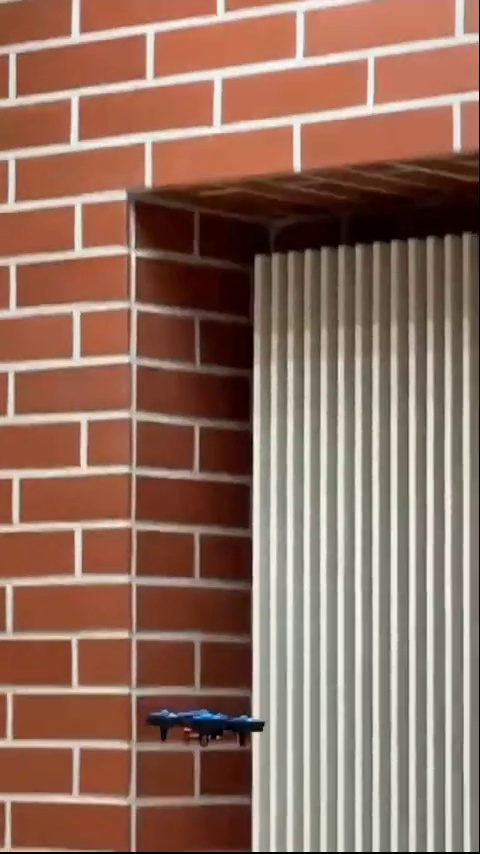drone: (143, 704, 270, 756)
